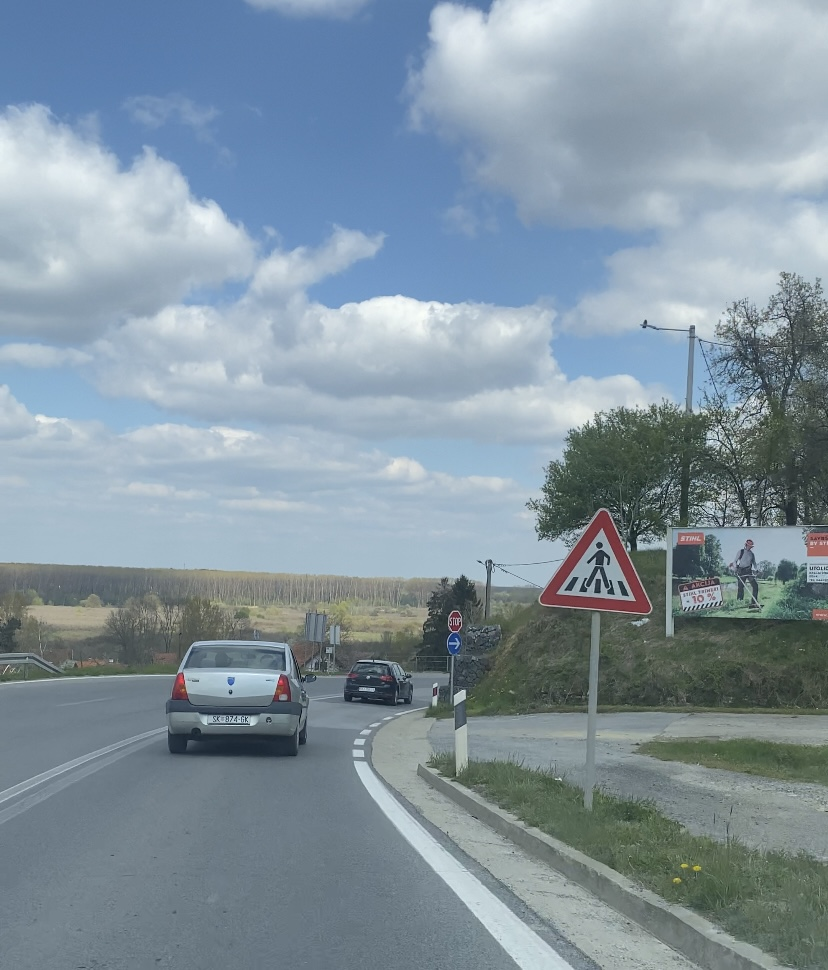Obavezno zaustavljanje: (448, 610, 463, 632)
Približavanje pješačkom prijelazu: (538, 508, 654, 615)
